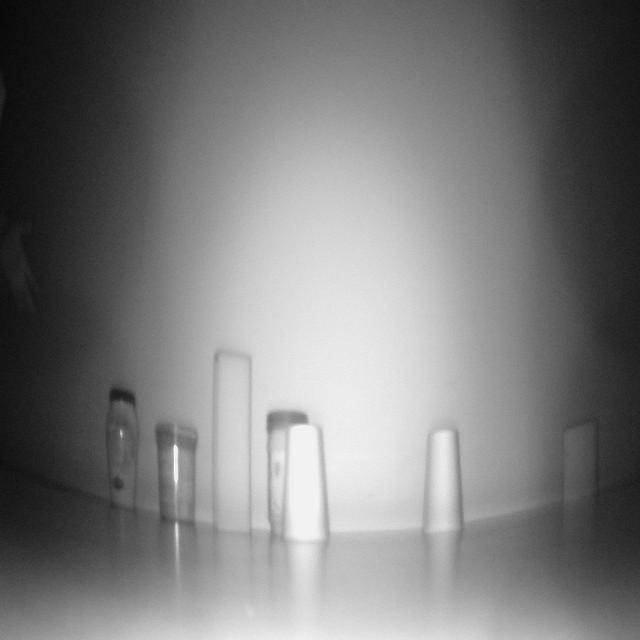targets: (260, 410, 327, 538), (210, 345, 252, 535), (102, 380, 142, 513), (155, 412, 197, 526), (422, 431, 462, 532), (563, 416, 601, 502)
